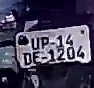0: (65, 46, 76, 63)
1: (55, 34, 64, 48), (48, 47, 56, 62)
2: (57, 47, 66, 62)
4: (75, 44, 87, 60), (63, 34, 75, 47)
D: (22, 51, 33, 66)
E: (32, 51, 40, 63)
P: (41, 36, 49, 48)
U: (29, 36, 40, 51)
